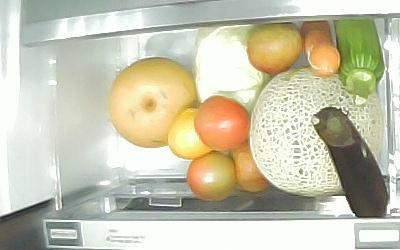cabbage: (194, 24, 269, 104)
carrot: (301, 21, 341, 75)
eggplant: (313, 106, 388, 219)
melon: (251, 68, 387, 199)
pear: (107, 57, 197, 149)
prune: (247, 23, 303, 74), (185, 151, 237, 200), (231, 140, 270, 193)
tangerine: (166, 107, 212, 159)
tomato: (196, 96, 251, 150)
zucchini: (333, 19, 384, 105)
